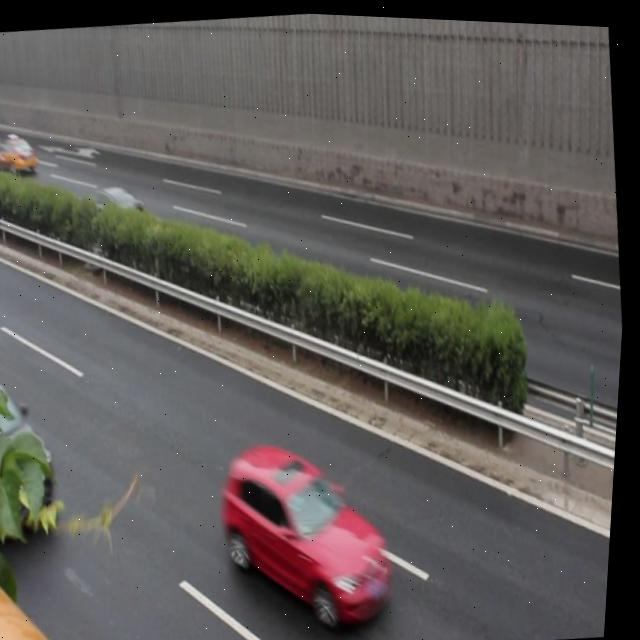car: (214, 423, 408, 627), (81, 174, 146, 234), (0, 127, 44, 185)
